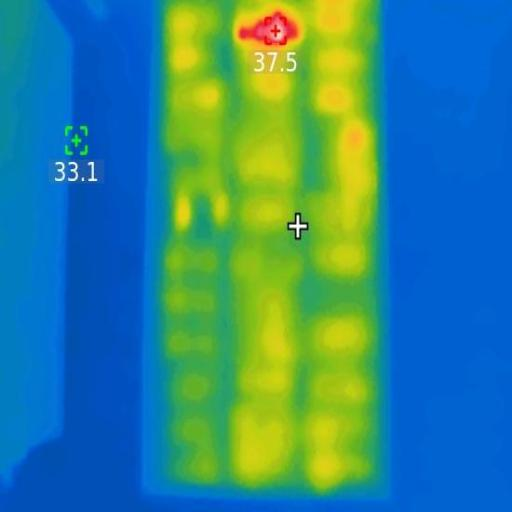hotspot: (233, 15, 300, 46)
